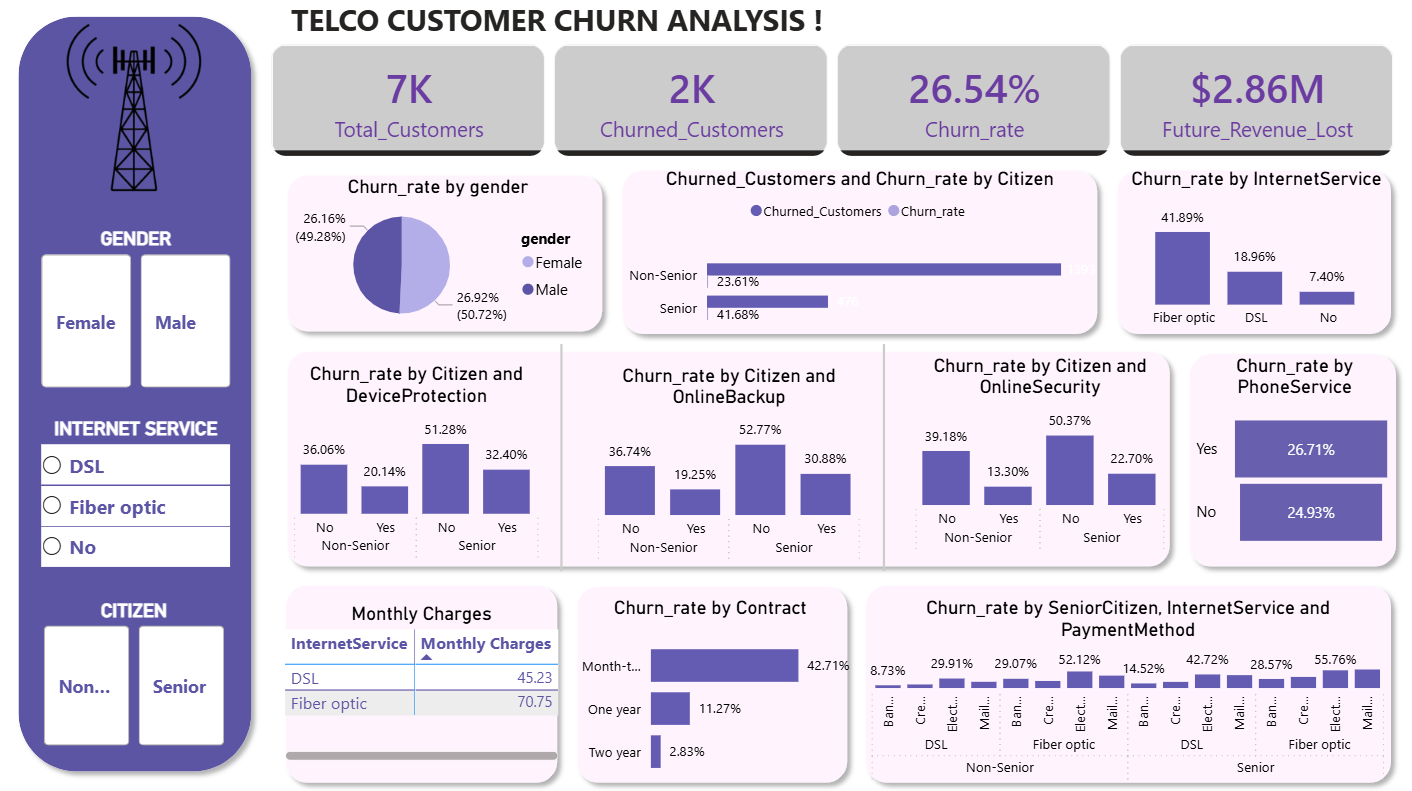

What the dashboard file says about the page in this screenshot:
{"tool":"powerbi","page":{"name":"Page 1","canvas":[1280,720],"ordinal":0},"visuals":[{"type":"cardVisual","fields":{"Data":["telco_cleaned.Total_Customers","telco_cleaned.Churned_Customers","telco_cleaned.Churn_rate","telco_cleaned.Revenue_Lost"]},"box":[231.1,28.2,1049.3,135.3],"z":0},{"type":"shape","box":[11.6,11.6,227.9,698.8],"z":1000},{"type":"shape","box":[555.7,149.9,446.3,165.7],"z":2000},{"type":"textbox","box":[253.5,0,576.7,134.9],"z":3000},{"type":"shape","box":[1002,149.9,264.9,165.7],"z":4000},{"type":"shape","box":[253.6,154.4,302.1,158.9],"z":5000},{"type":"pieChart","fields":{"Category":["telco_cleaned.gender"],"Y":["telco_cleaned.Churn_rate"]},"box":[253.7,162.9,289.8,143.2],"z":6000},{"type":"clusteredBarChart","title":"Churned_Customers and Churn_rate by Citizen","fields":{"Y":["telco_cleaned.Churned_Customers","telco_cleaned.Churn_rate"],"Category":["telco_cleaned.SeniorCitizen"]},"box":[561,157.1,435.3,169.9],"z":7000},{"type":"columnChart","fields":{"Y":["telco_cleaned.Churn_rate"],"Category":["telco_cleaned.InternetService"]},"box":[1014.9,157.1,244.4,153.6],"z":8000},{"type":"shape","box":[253.6,313.3,813.8,211.9],"z":9000},{"type":"clusteredColumnChart","title":"Churn_rate by Citizen and DeviceProtection","fields":{"Y":["telco_cleaned.Churn_rate"],"Category":["telco_cleaned.SeniorCitizen","telco_cleaned.DeviceProtection"]},"box":[247.9,332.8,262.3,187.4],"z":9000,"group":"g1"},{"type":"clusteredColumnChart","title":"Churn_rate by Citizen and OnlineBackup","fields":{"Y":["telco_cleaned.Churn_rate"],"Category":["telco_cleaned.SeniorCitizen","telco_cleaned.OnlineBackup"]},"box":[520.4,333.2,280.5,187.4],"z":10000,"group":"g1"},{"type":"shape","box":[515.1,525.2,261.5,195],"z":10000},{"type":"shape","box":[1067.4,315.6,204,209.6],"z":11000},{"type":"clusteredColumnChart","title":"Churn_rate by Citizen and OnlineSecurity","fields":{"Y":["telco_cleaned.Churn_rate"],"Category":["telco_cleaned.SeniorCitizen","telco_cleaned.OnlineSecurity"]},"box":[808.6,324.7,266.8,187.4],"z":11000,"group":"g1"},{"type":"group","id":"g1","title":"Group 1","box":[247.9,324.7,827.5,195.9],"z":12000},{"type":"shape","box":[775.5,524.1,491.4,196.1],"z":13000},{"type":"funnel","fields":{"Category":["telco_cleaned.PhoneService"],"Y":["telco_cleaned.Churn_rate"]},"box":[1077.5,324.6,187.1,189.4],"z":14000},{"type":"clusteredBarChart","fields":{"Y":["telco_cleaned.Churn_rate"],"Category":["telco_cleaned.Contract"]},"box":[511.7,543.3,264.9,177],"z":15000},{"type":"columnChart","fields":{"Category":["telco_cleaned.SeniorCitizen","telco_cleaned.InternetService","telco_cleaned.PaymentMethod"],"Y":["telco_cleaned.Churn_rate"]},"box":[776.7,543,488.4,176.7],"z":16000},{"type":"shape","box":[389.9,315.4,239.8,204.8],"z":17000},{"type":"shape","box":[680.9,315.4,239.8,204.8],"z":18000},{"type":"advancedSlicerVisual","title":"GENDER","fields":{"Values":["telco_cleaned.gender"]},"box":[36,210.5,180.2,150],"z":19000},{"type":"listSlicer","title":"INTERNET SERVICE","fields":{"Values":["telco_cleaned.InternetService"]},"box":[36,382.6,180.2,327.9],"z":20000},{"type":"shape","box":[252.5,524.1,262.6,196.1],"z":20500},{"type":"advancedSlicerVisual","title":"CITIZEN","fields":{"Values":["telco_cleaned.SeniorCitizen"]},"box":[38.4,545.4,172.1,137.2],"z":21000},{"type":"image","box":[0,25.6,248.8,159.3],"z":22000},{"type":"pivotTable","title":"Monthly Charges","fields":{"Rows":["telco_cleaned.InternetService"],"Values":["Median(telco_cleaned.MonthlyCharges)"]},"box":[255.9,548.9,255.9,147.7],"z":24000}]}

Visuals, with their boxes in screenshot pixels (x1, y1, x2, y2), scaled from the page's 1280x720 canvas onto the 1412x791 screenshot:
cardVisual - telco_cleaned.Total_Customers x telco_cleaned.Churned_Customers: x1=255, y1=31, x2=1411, y2=180
shape: x1=13, y1=13, x2=264, y2=780
shape: x1=613, y1=165, x2=1105, y2=347
textbox: x1=280, y1=0, x2=916, y2=148
shape: x1=1105, y1=165, x2=1398, y2=347
shape: x1=280, y1=170, x2=613, y2=344
pieChart - telco_cleaned.gender x telco_cleaned.Churn_rate: x1=280, y1=179, x2=600, y2=336
"Churned_Customers and Churn_rate by Citizen" clusteredBarChart: x1=619, y1=173, x2=1099, y2=359
columnChart - telco_cleaned.Churn_rate x telco_cleaned.InternetService: x1=1120, y1=173, x2=1389, y2=341
shape: x1=280, y1=344, x2=1177, y2=577
"Churn_rate by Citizen and DeviceProtection" clusteredColumnChart: x1=273, y1=366, x2=563, y2=571
"Churn_rate by Citizen and OnlineBackup" clusteredColumnChart: x1=574, y1=366, x2=883, y2=572
shape: x1=568, y1=577, x2=857, y2=790
shape: x1=1177, y1=347, x2=1403, y2=577
"Churn_rate by Citizen and OnlineSecurity" clusteredColumnChart: x1=892, y1=357, x2=1186, y2=563
"Group 1" group: x1=273, y1=357, x2=1186, y2=572
shape: x1=855, y1=576, x2=1398, y2=790
funnel - telco_cleaned.PhoneService x telco_cleaned.Churn_rate: x1=1189, y1=357, x2=1395, y2=565
clusteredBarChart - telco_cleaned.Churn_rate x telco_cleaned.Contract: x1=564, y1=597, x2=857, y2=790
columnChart - telco_cleaned.SeniorCitizen x telco_cleaned.InternetService: x1=857, y1=597, x2=1396, y2=790
shape: x1=430, y1=347, x2=695, y2=571
shape: x1=751, y1=347, x2=1016, y2=571
"GENDER" advancedSlicerVisual: x1=40, y1=231, x2=238, y2=396
"INTERNET SERVICE" listSlicer: x1=40, y1=420, x2=238, y2=781
shape: x1=279, y1=576, x2=568, y2=790
"CITIZEN" advancedSlicerVisual: x1=42, y1=599, x2=232, y2=750
image: x1=0, y1=28, x2=274, y2=203
"Monthly Charges" pivotTable: x1=282, y1=603, x2=565, y2=765
